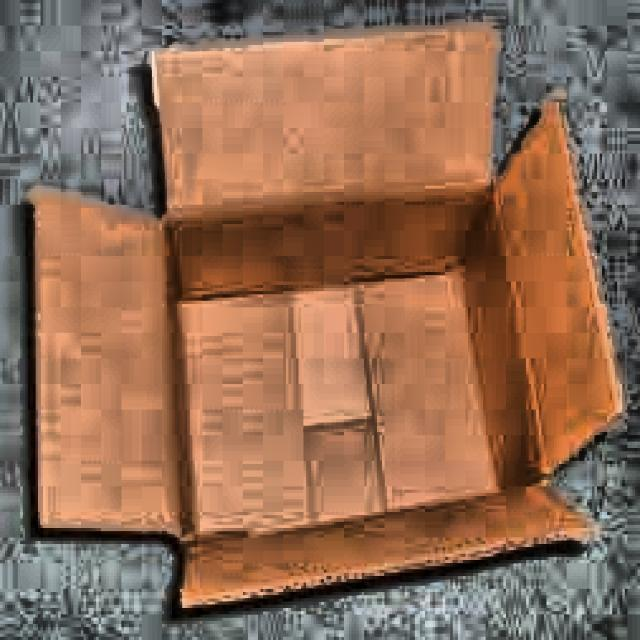cardboard: (23, 16, 625, 614)
